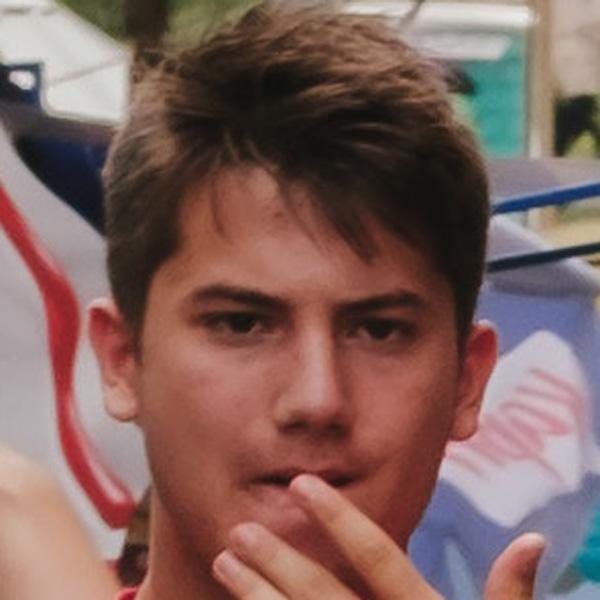Eyes: (189, 299, 283, 352), (335, 307, 429, 353)
